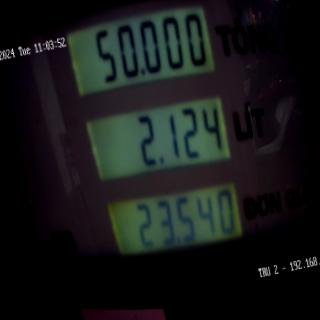screen: (56, 0, 265, 304)
